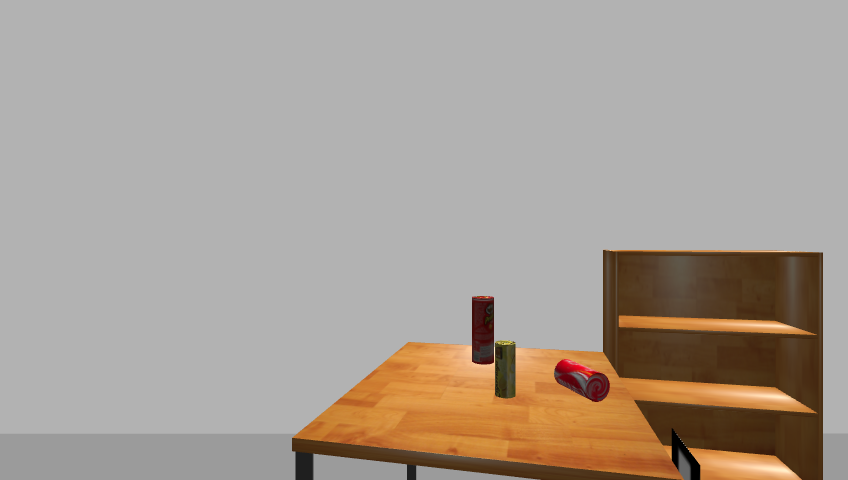aruco marker: (667, 429, 704, 480)
biscuits pack: (495, 340, 517, 400)
bookshelf: (597, 248, 830, 479)
coke can: (552, 359, 611, 402)
dinner table: (287, 341, 678, 480)
pringles can: (468, 295, 497, 366)
